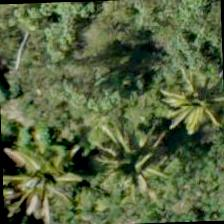Kelapa_Sawit: (4, 124, 98, 218), (88, 113, 181, 206), (150, 50, 223, 144)
